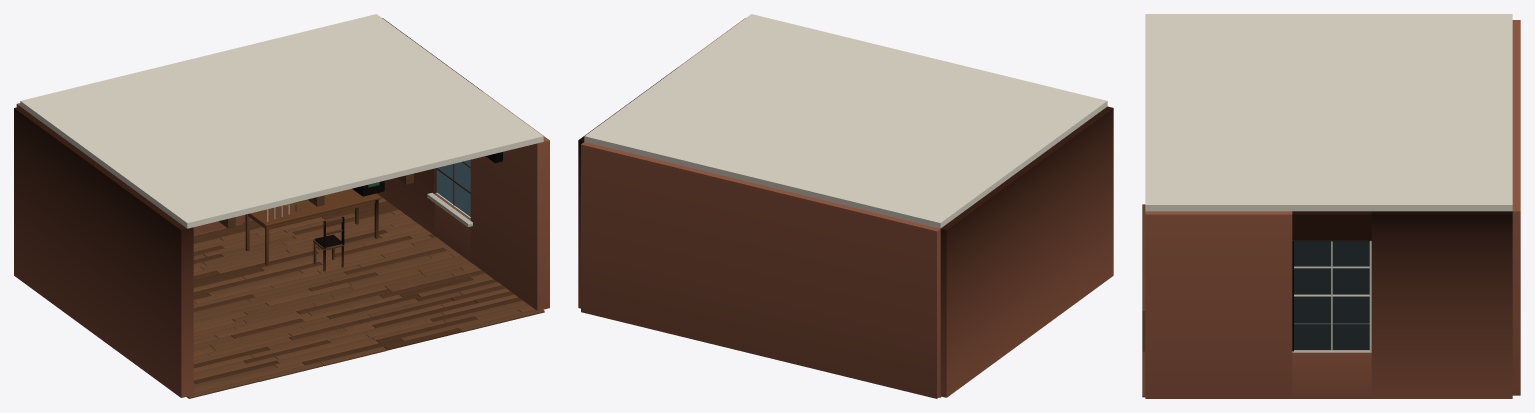
The model's file is lab.glb.
3 views of the same model, side by side, from view 1: azimuth 30°, elevation 25°; view 2: azimuth 150°, elevation 25°; view 3: azimuth 270°, elevation 25° (orthographic). The views are drawn at different scales.
Visible parts, largest first — view 1: lab.plaster.6, lab.brick.5, lab.plank.0, lab.plank.1, lab.plank.9, lab.glass.2, lab.plank.7; view 2: lab.brick.5, lab.plaster.6; view 3: lab.plaster.6, lab.brick.5, lab.glass.2, lab.paint.3, lab.plank.0.
Part boxes in pixels (x1,y1,x2,y2): lab.plaster.6: [20, 14, 543, 228]; lab.brick.5: [14, 18, 549, 397]; lab.plank.0: [186, 198, 544, 398]; lab.plank.1: [193, 195, 522, 383]; lab.plank.9: [245, 188, 381, 265]; lab.glass.2: [437, 159, 470, 216]; lab.plank.7: [218, 152, 502, 271]; lab.brick.5: [578, 18, 1113, 398]; lab.plaster.6: [584, 14, 1107, 228]; lab.plaster.6: [1145, 14, 1512, 211]; lab.brick.5: [1145, 20, 1520, 398]; lab.glass.2: [1294, 241, 1369, 350]; lab.paint.3: [1292, 240, 1371, 352]; lab.plank.0: [1142, 204, 1145, 397].
Bounding box in the file's own units: 8.28 × 3.76 × 6.7.
